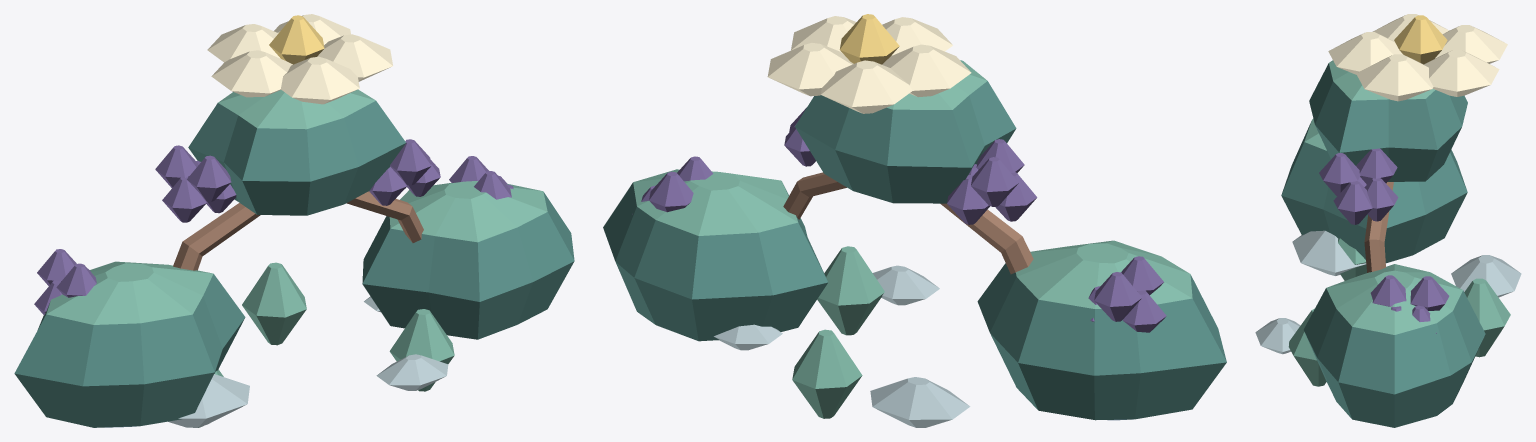
Rendered from lagoon_shrub_trailing_blackberry_b.glb.
3 views of the same model, side by side, from view 1: azimuth 30°, elevation 25°; view 2: azimuth 150°, elevation 25°; view 3: azimuth 270°, elevation 25° (orthographic). The views are drawn at different scales.
Visible parts, largest first — view 1: lagoon_shrub_trailing_blackberry_b.001; view 2: lagoon_shrub_trailing_blackberry_b.001; view 3: lagoon_shrub_trailing_blackberry_b.001.
Part boxes in pixels (box(x1,y1,x2,y2)): lagoon_shrub_trailing_blackberry_b.001: box(14, 14, 574, 427); lagoon_shrub_trailing_blackberry_b.001: box(603, 14, 1226, 427); lagoon_shrub_trailing_blackberry_b.001: box(1255, 14, 1521, 427).
Size of the model in its own units: 3.1 by 1.82 by 1.32.
